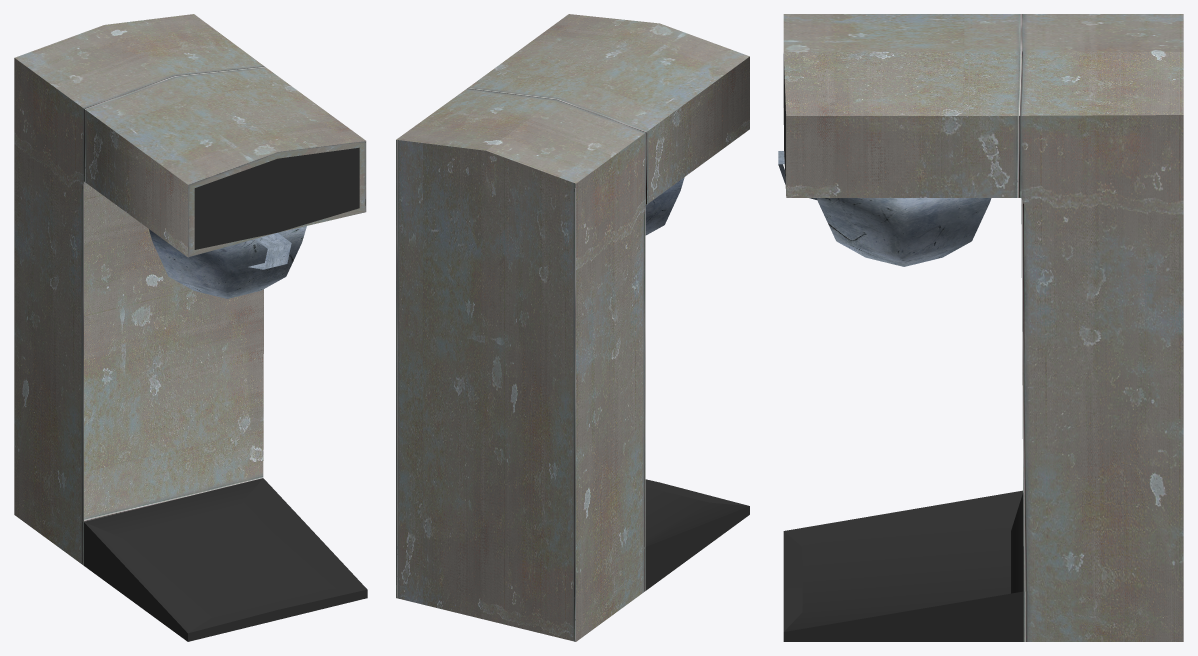
File: M_Home_Garden_Coffeemachine.fbx
3 views of the same model, side by side, from view 1: azimuth 30°, elevation 25°; view 2: azimuth 150°, elevation 25°; view 3: azimuth 270°, elevation 25° (orthographic). The views are drawn at different scales.
Visible parts, largest first — view 1: M_Home_Garden_Coffeemachine; view 2: M_Home_Garden_Coffeemachine; view 3: M_Home_Garden_Coffeemachine.
Boxes of the visible parts, bbox=[...] form: M_Home_Garden_Coffeemachine: bbox=[14, 14, 367, 641]; M_Home_Garden_Coffeemachine: bbox=[396, 14, 749, 641]; M_Home_Garden_Coffeemachine: bbox=[778, 14, 1183, 641].
Size of the model in its own units: 29.14 by 72.58 by 49.44.
